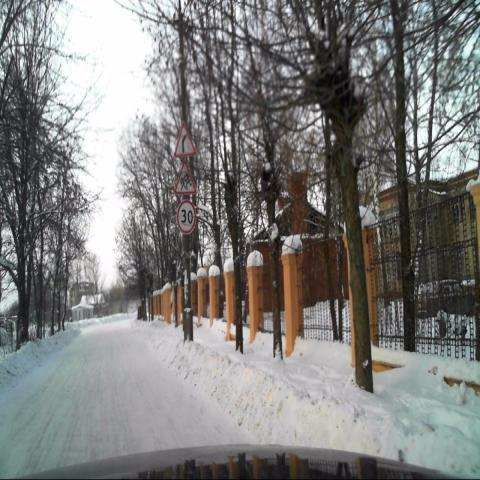1_11_1: (175, 123, 196, 158)
